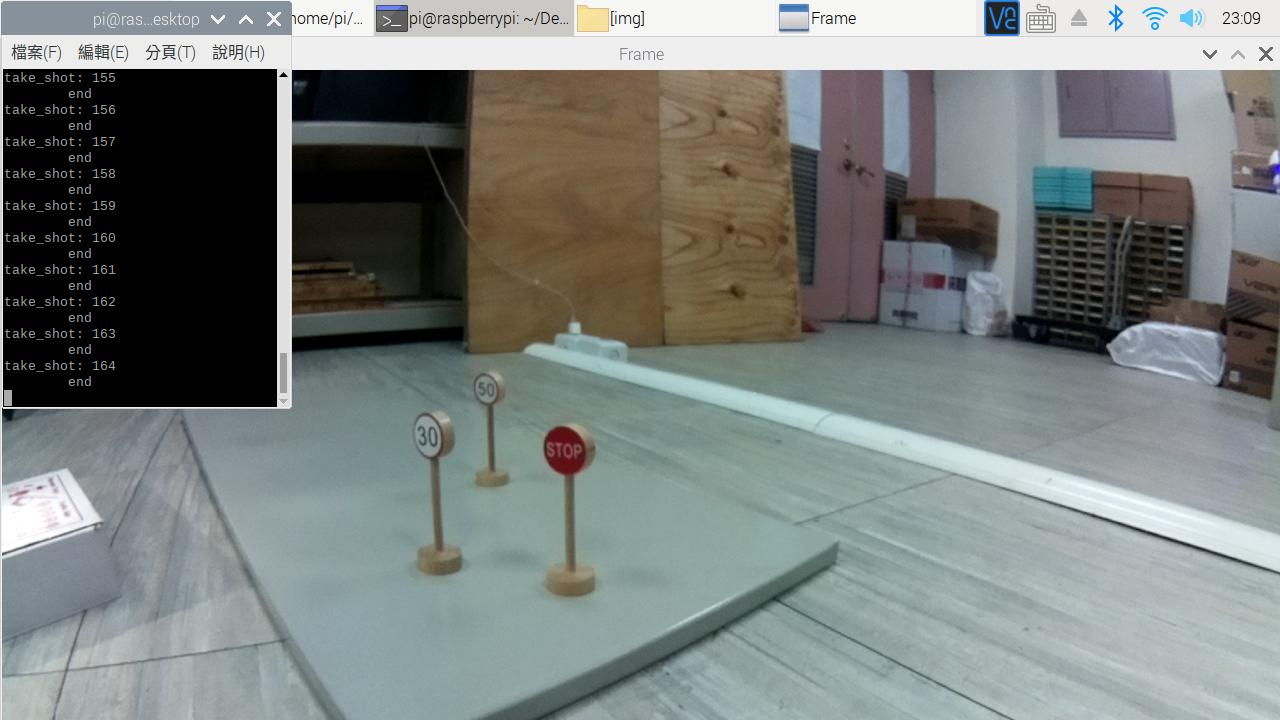Speed30: (405, 404, 466, 466)
Speed50: (469, 366, 517, 413)
Stop: (530, 416, 604, 477)
